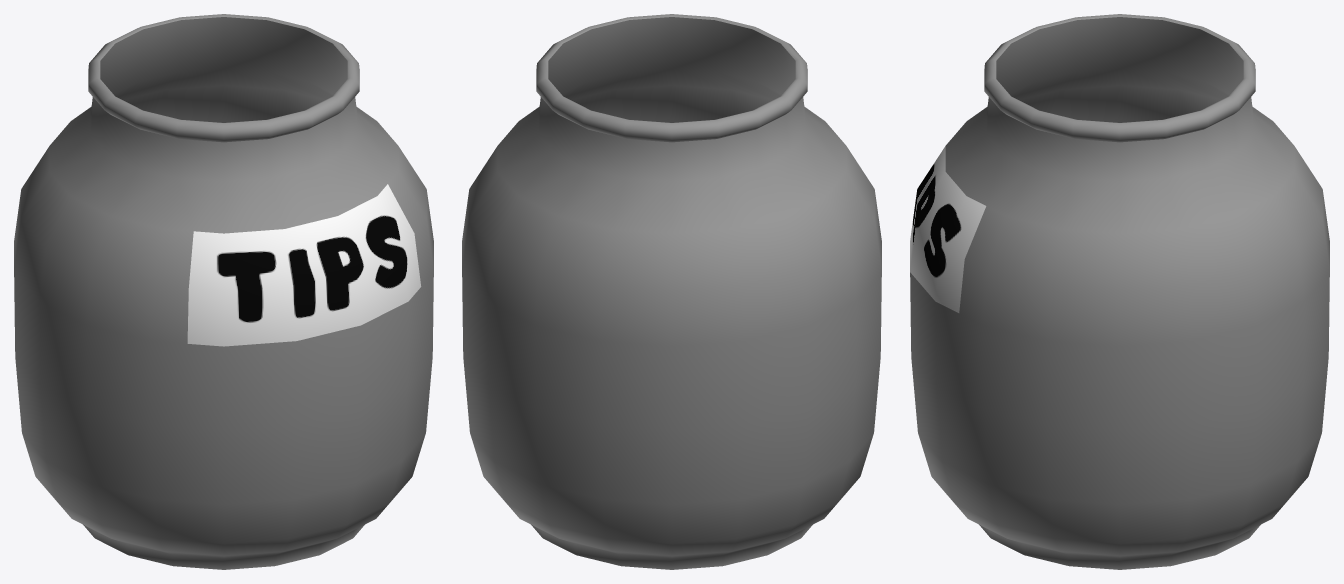
The model's file is CashJar.fbx.
3 renders of one model, left to right at view 1: azimuth 30°, elevation 25°; view 2: azimuth 150°, elevation 25°; view 3: azimuth 270°, elevation 25°, orthographic.
Parts seen in each view (by area): view 1: CashJar; view 2: CashJar; view 3: CashJar.
Boxes of the visible parts, <box> form: CashJar: <box>14,14,433,569</box>; CashJar: <box>462,14,881,569</box>; CashJar: <box>910,14,1329,569</box>.
Size of the model in its own units: 44.98 by 51.03 by 44.3.
Materials: 2 (1 with a texture image).
